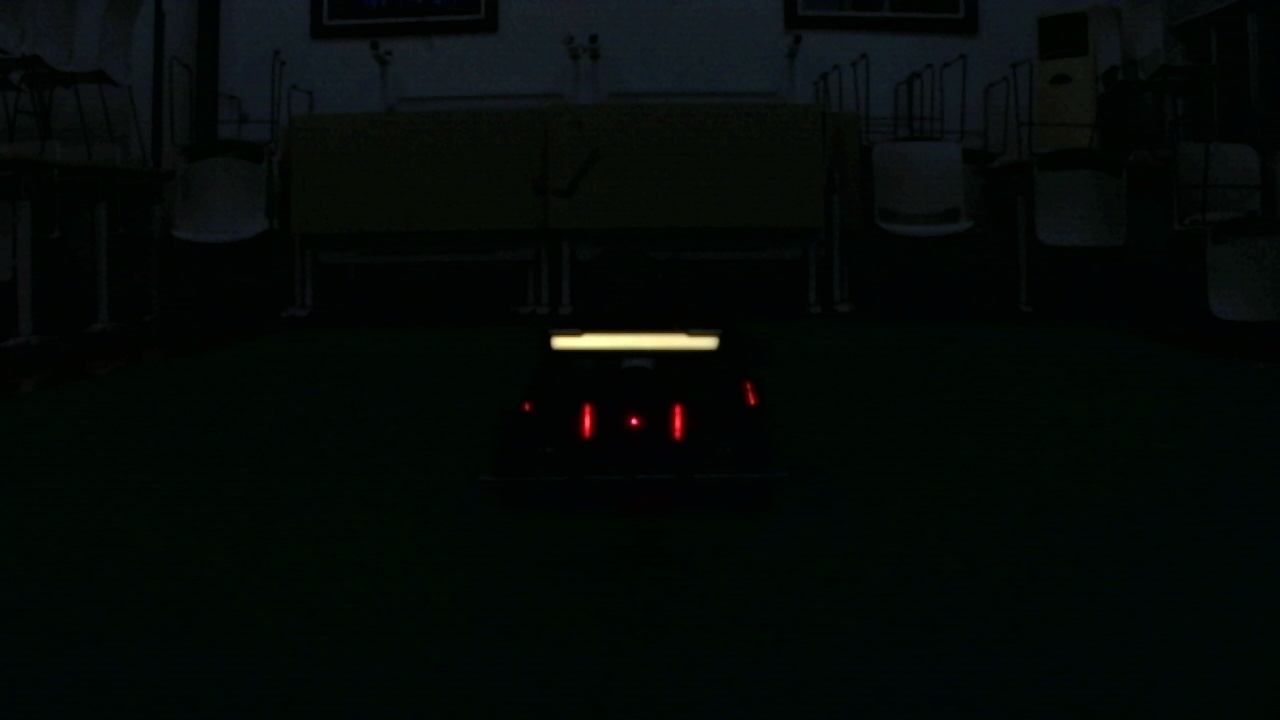lamp: (671, 394, 685, 439), (582, 401, 595, 435)
pair1: (583, 406, 685, 439)
